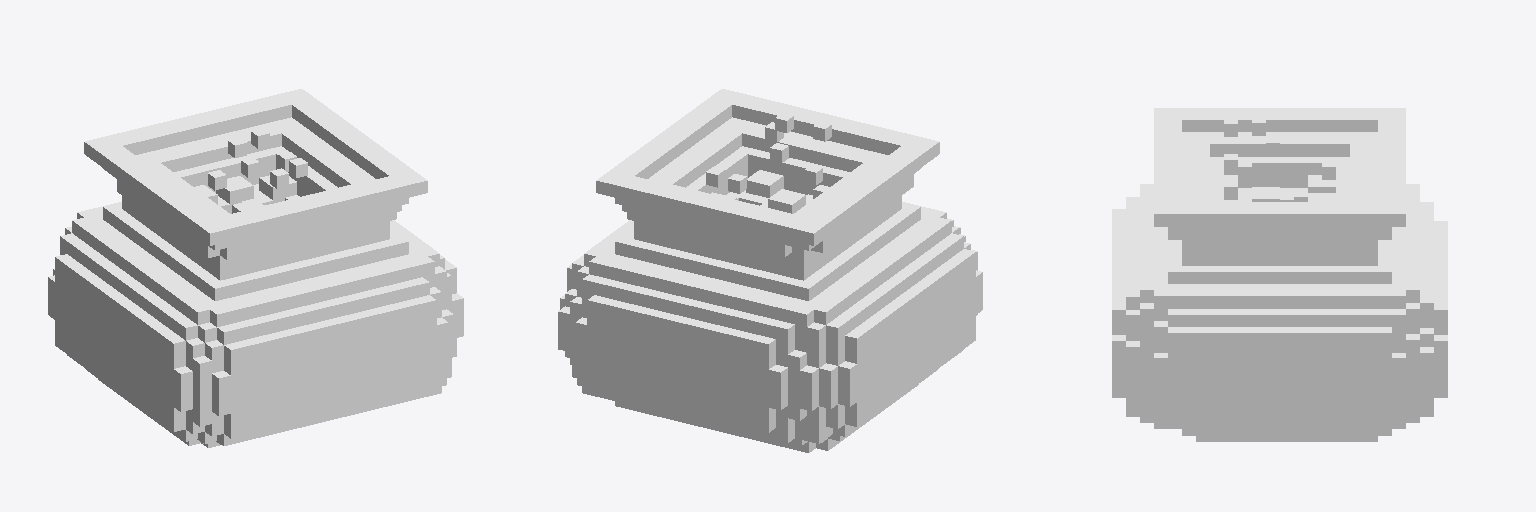
The model's file is cauldron.obj.
3 renders of one model, left to right at view 1: azimuth 30°, elevation 25°; view 2: azimuth 150°, elevation 25°; view 3: azimuth 270°, elevation 25°, orthographic.
Visible parts, largest first — view 1: object 1; view 2: object 1; view 3: object 1.
Boxes of the visible parts, <box> form: object 1: <box>48,89,463,447</box>; object 1: <box>558,89,982,452</box>; object 1: <box>1112,108,1447,441</box>.
Size of the model in its own units: 2.4 by 2.1 by 2.4.